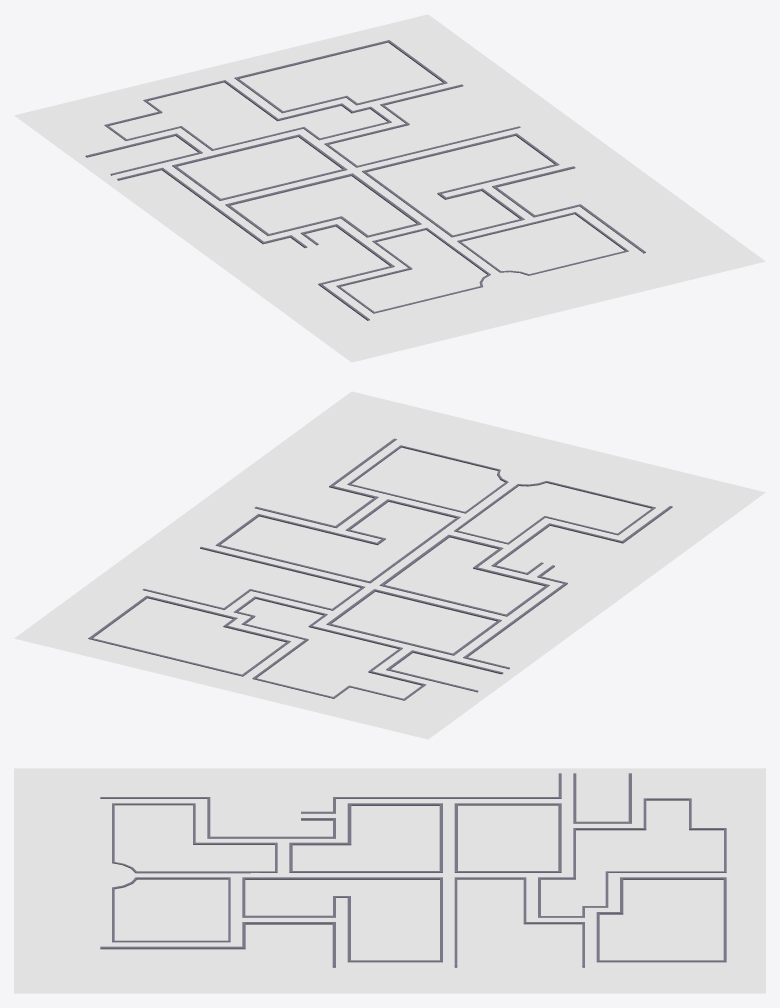
File: Base_Road.fbx
3 views of the same model, one above another, from view 1: azimuth 30°, elevation 25°; view 2: azimuth 150°, elevation 25°; view 3: azimuth 270°, elevation 25° (orthographic). The views are drawn at different scales.
Visible parts, largest first — view 1: Land, Base_Road; view 2: Land, Base_Road; view 3: Land, Base_Road.
Part boxes in pixels (box(x1,y1,x2,y2)): Land: box(14, 14, 765, 362); Base_Road: box(81, 34, 642, 319); Land: box(14, 391, 765, 739); Base_Road: box(74, 440, 669, 706); Land: box(14, 768, 765, 993); Base_Road: box(100, 774, 738, 967).
Bounding box in the file's own units: 44.35 × 0.111 × 62.63.
